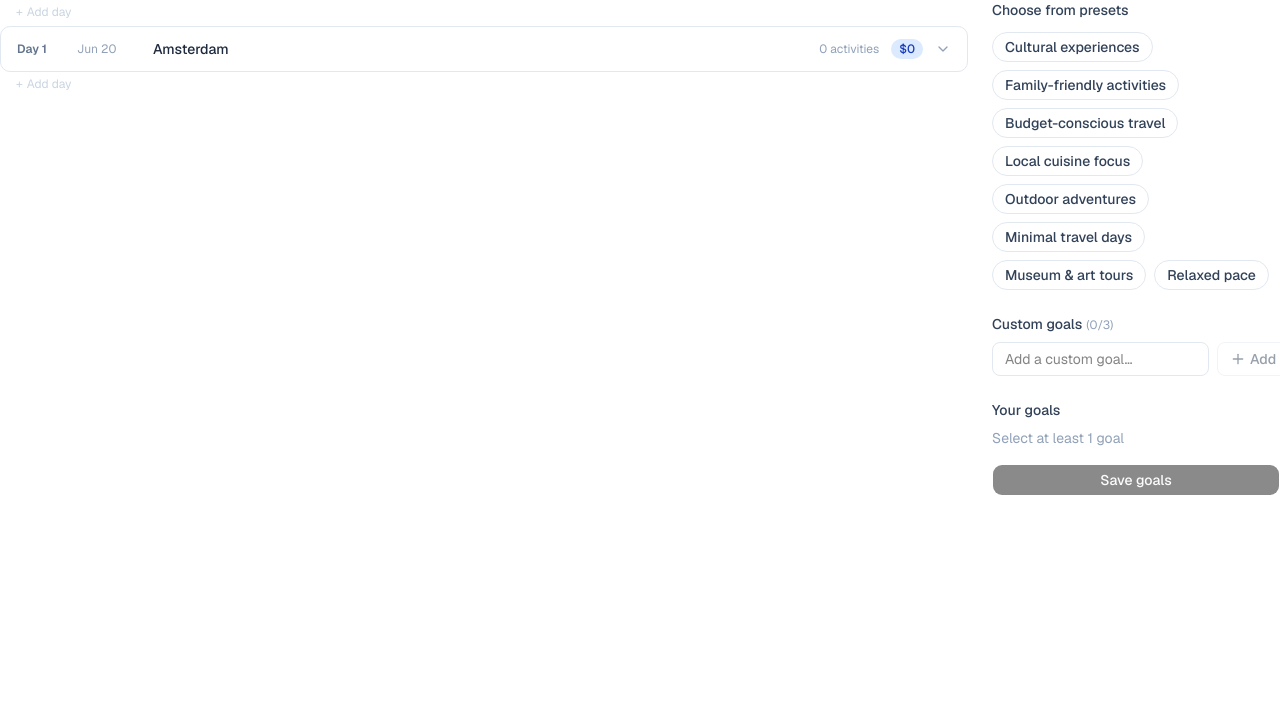
Test case: shows empty state after removing the only day in the itinerary
The width and height of the screenshot is (1280, 720).
Click the text "Amsterdam".
click(191, 49)  # box [153,40,229,58]
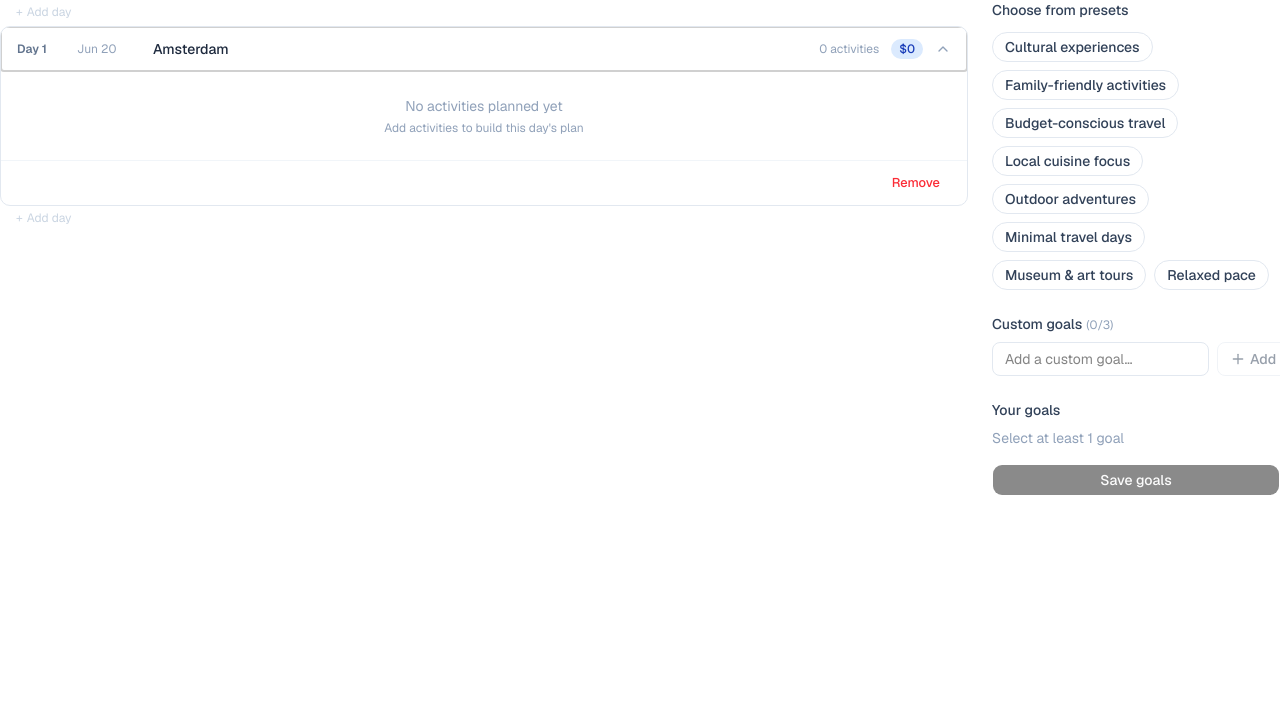
Click the button "Remove".
click(916, 183)  # box [881,169,951,197]
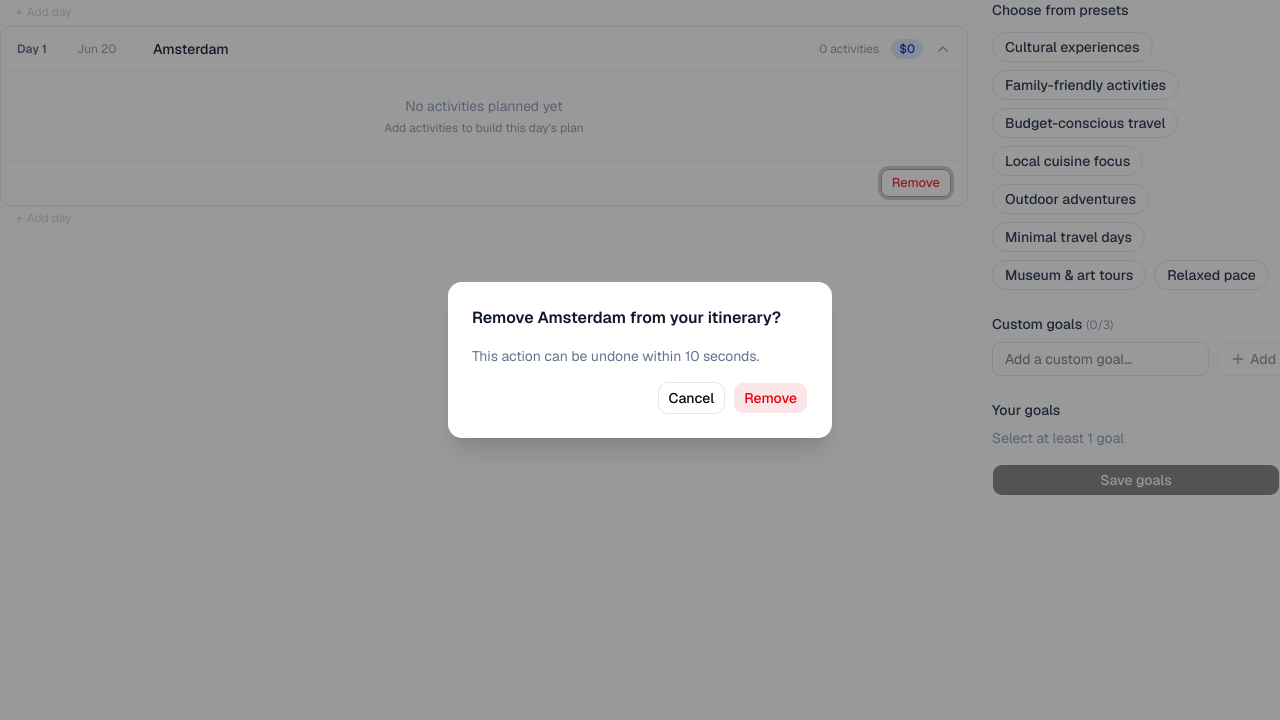
Click the button "Remove".
click(771, 398)  # box [733,382,808,414]
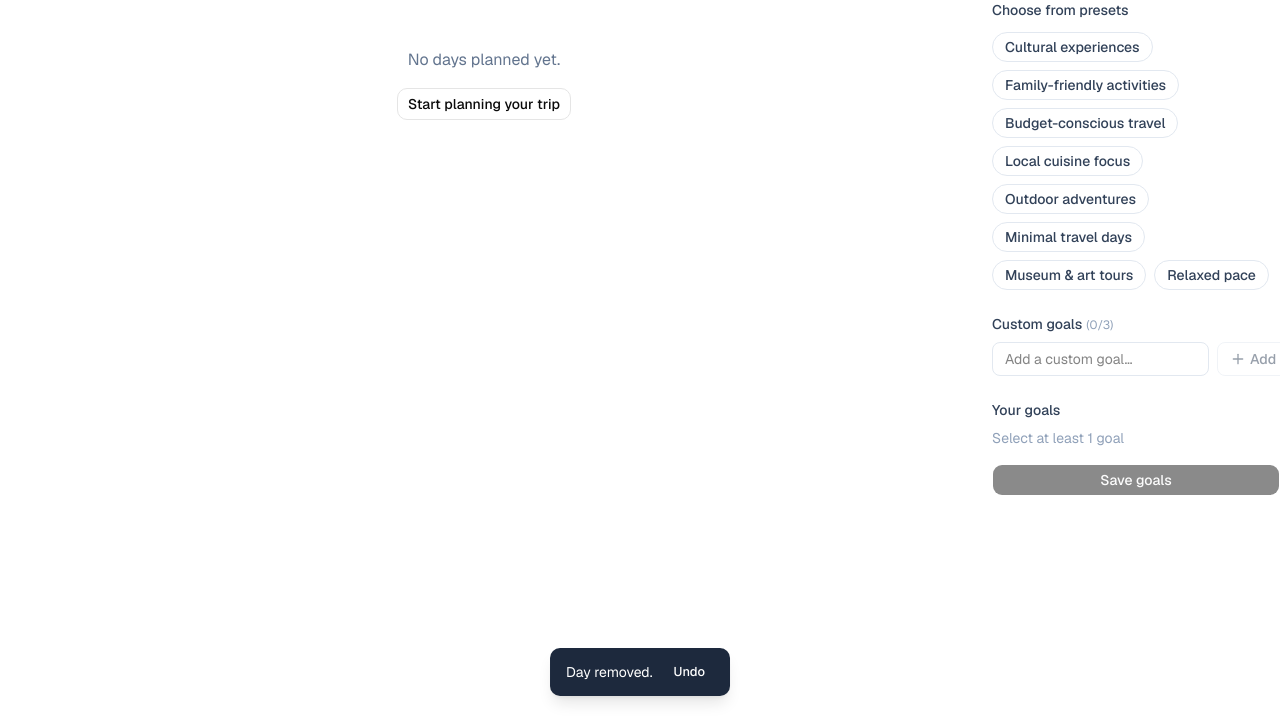
Check: the text "No days planned yet." is shown, box [408,49,560,70]
Check: the heading "Amsterdam" is gone
